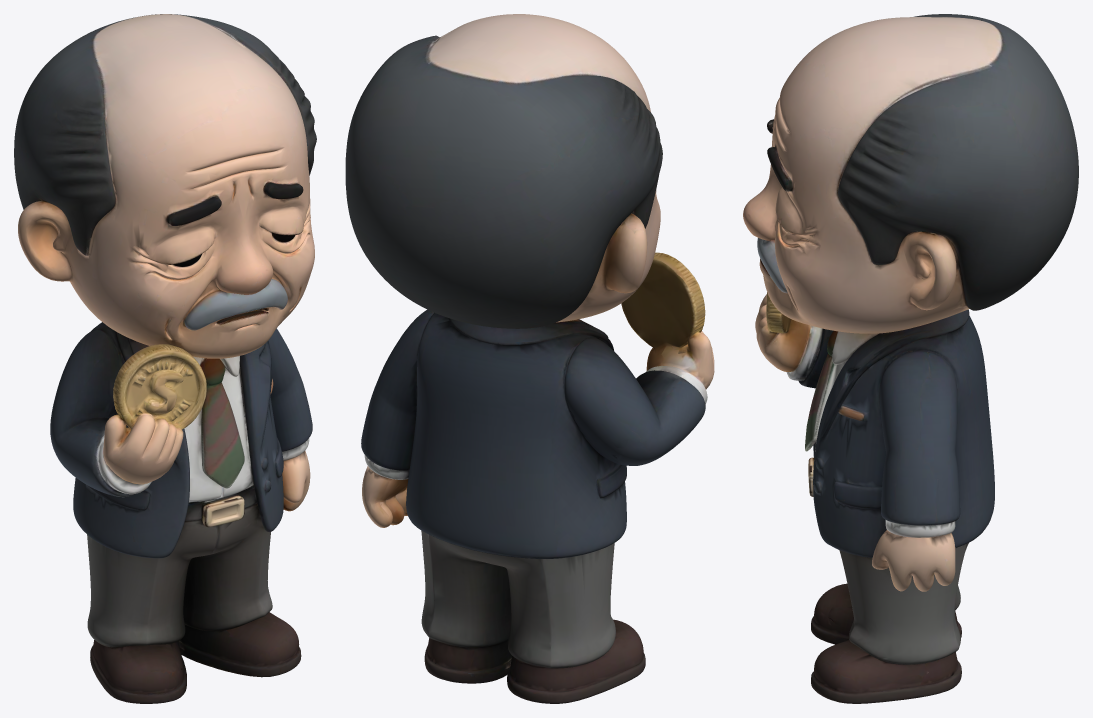
File: ojisan-pachinko.glb
The picture shows the model from 3 angles, left to right: view 1: azimuth 30°, elevation 25°; view 2: azimuth 150°, elevation 25°; view 3: azimuth 270°, elevation 25°; orthographic projection. The views are drawn at different scales.
Visible parts, largest first — view 1: node_0; view 2: node_0; view 3: node_0.
Boxes of the visible parts, x1=… form: node_0: x1=14, y1=14, x2=316, y2=703; node_0: x1=345, y1=14, x2=714, y2=703; node_0: x1=743, y1=14, x2=1078, y2=703.
Bounding box in the file's own units: 0.5422 × 1.13 × 0.5483.
1 material, 1 textured.
